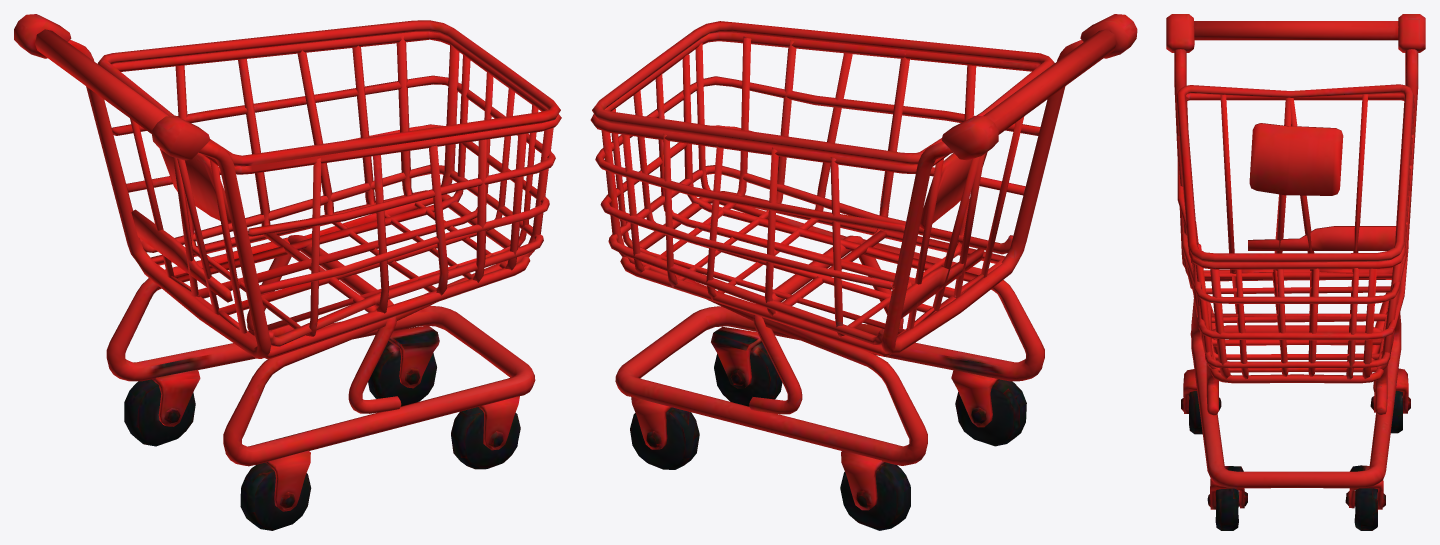
Rendered from prop_cart.glb.
3 renders of one model, left to right at view 1: azimuth 30°, elevation 25°; view 2: azimuth 150°, elevation 25°; view 3: azimuth 270°, elevation 25°, orthographic. The views are drawn at different scales.
Visible parts, largest first — view 1: tripo_node_64962663-57da-46f9-8254-267a30a19bd8; view 2: tripo_node_64962663-57da-46f9-8254-267a30a19bd8; view 3: tripo_node_64962663-57da-46f9-8254-267a30a19bd8.
Part boxes in pixels (<box>): tripo_node_64962663-57da-46f9-8254-267a30a19bd8: <box>14,14,561,530</box>; tripo_node_64962663-57da-46f9-8254-267a30a19bd8: <box>590,14,1137,530</box>; tripo_node_64962663-57da-46f9-8254-267a30a19bd8: <box>1166,14,1425,530</box>.
Bounding box in the file's own units: 0.9785 × 0.998 × 0.627.
Materials: 1 (1 with a texture image).
